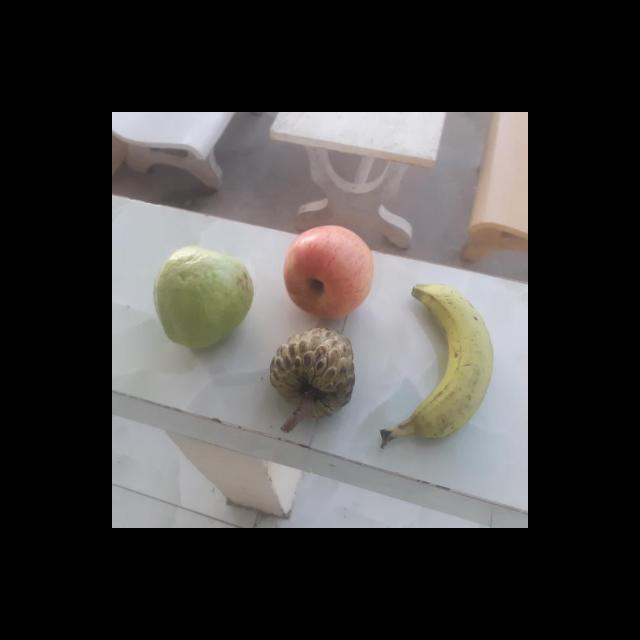Sakya fruit: (264, 328, 354, 422)
apple: (280, 222, 378, 320)
banana: (394, 284, 490, 442)
guava: (152, 242, 255, 348)
